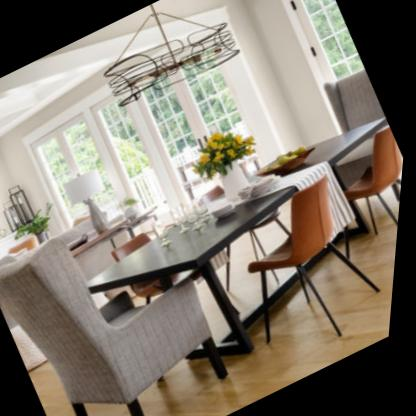Dining Table: (72, 88, 410, 374)
